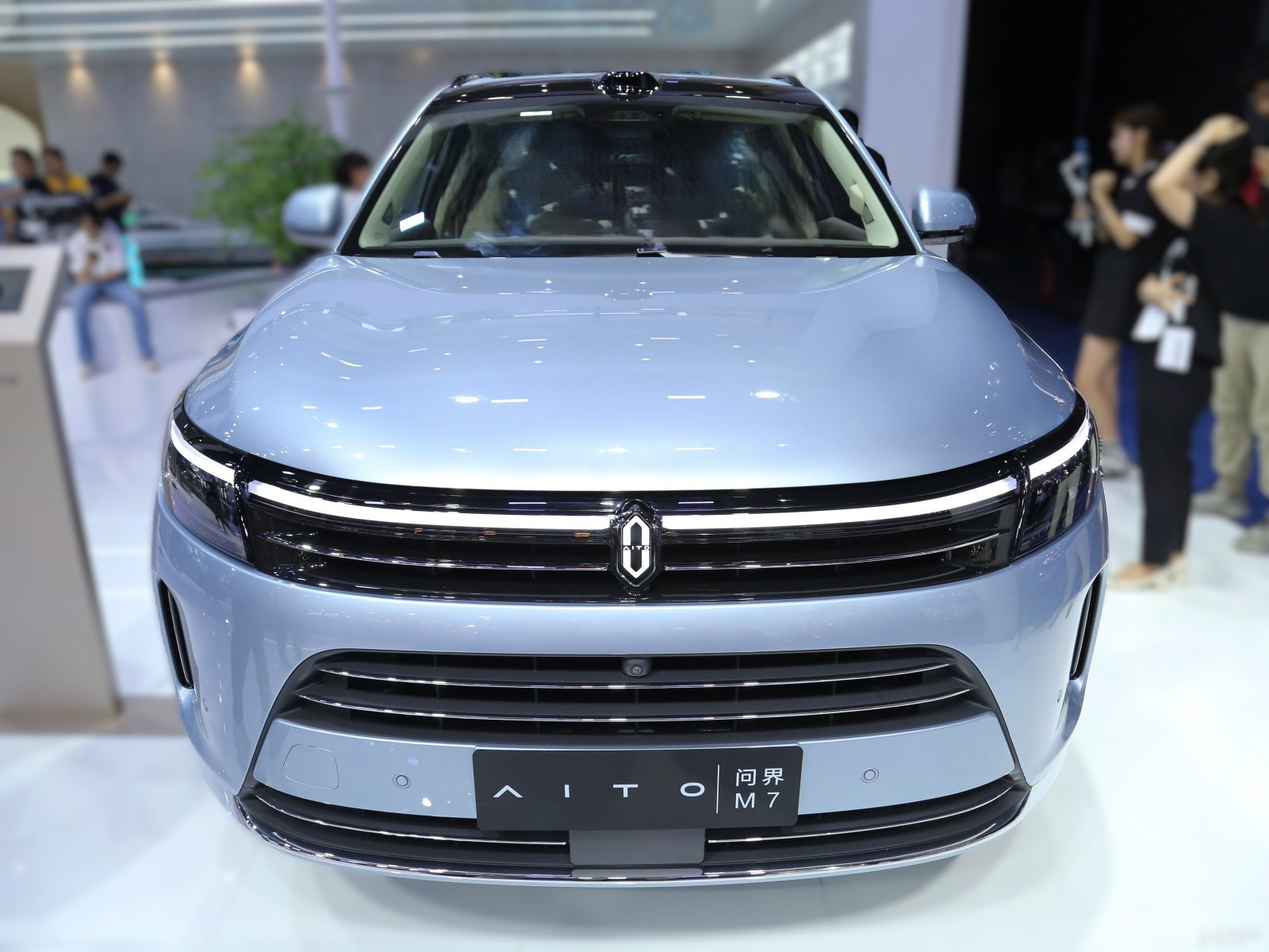AITO: (623, 517, 650, 578)
